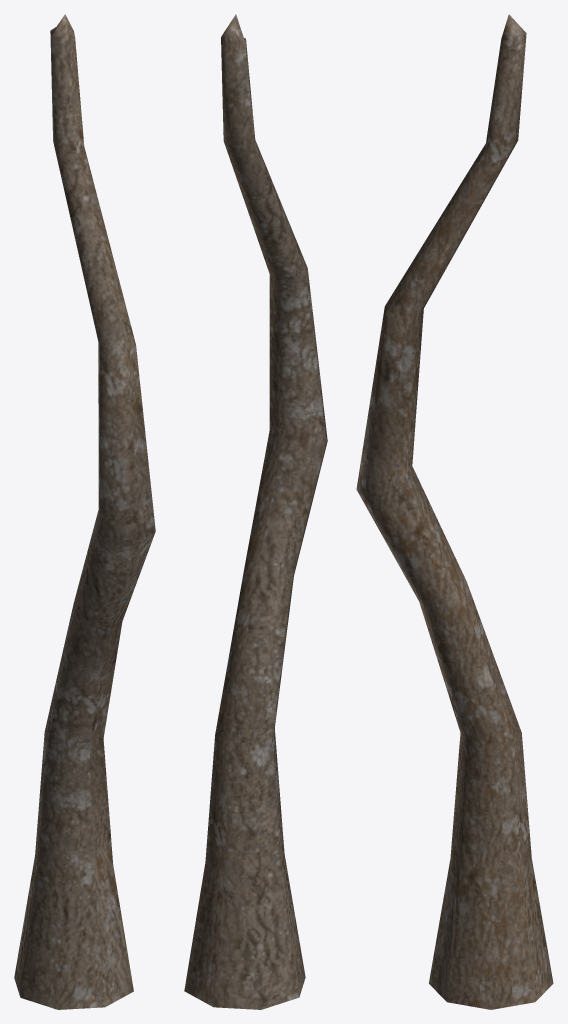
The model's file is dead tree 2.fbx.
3 views of the same model, side by side, from view 1: azimuth 30°, elevation 25°; view 2: azimuth 150°, elevation 25°; view 3: azimuth 270°, elevation 25° (orthographic).
Parts seen in each view (by area): view 1: Trunk; view 2: Trunk; view 3: Trunk.
Boxes of the visible parts, box(x1,y1,x2,y2) form: Trunk: box(14, 14, 155, 1009); Trunk: box(184, 14, 327, 1009); Trunk: box(356, 14, 553, 1009).
Bounding box in the file's own units: 113 × 966 × 178.
